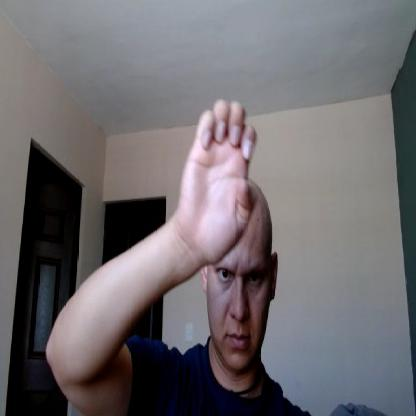E: (177, 98, 260, 258)
